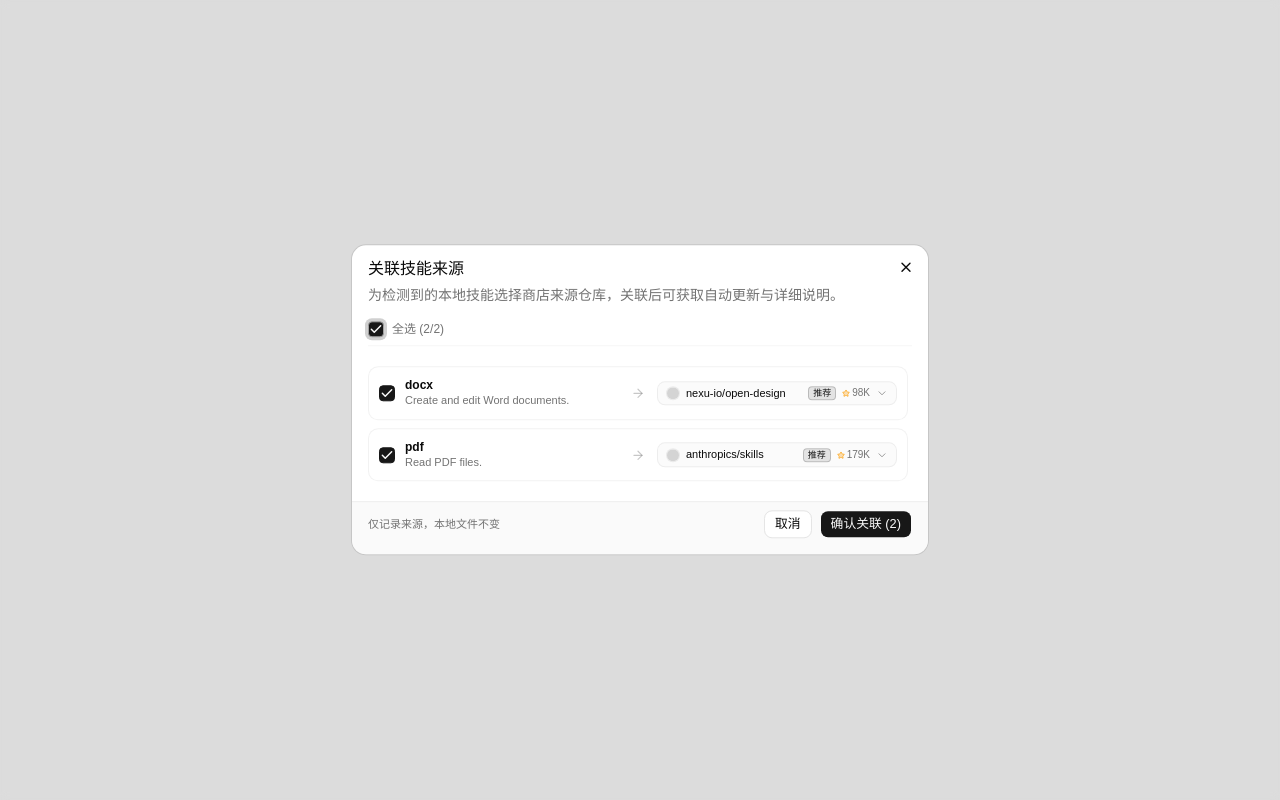
SourceLinkBatchDialog › disables confirm button when all items are unchecked
Uncheck docx and pdf
Click the checkbox named "docx": (387, 393) [379,385,395,401]
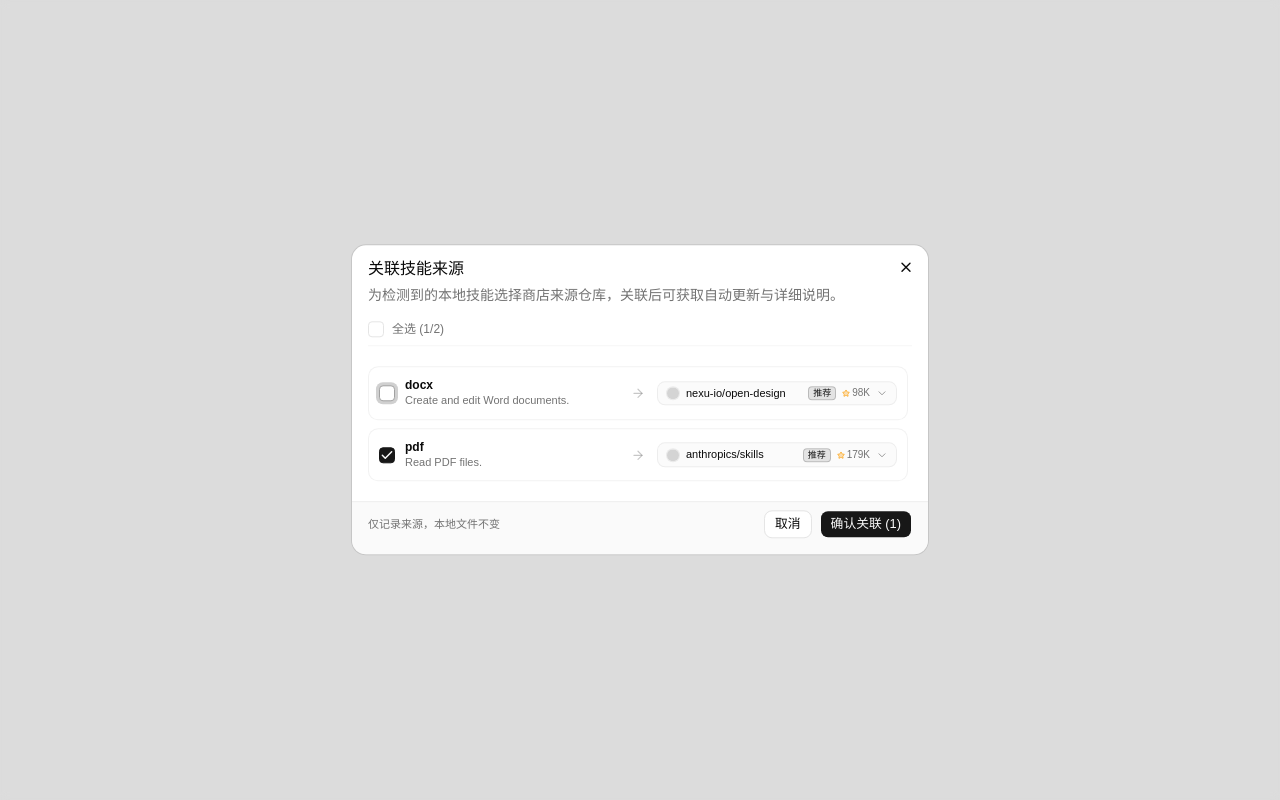
Click the checkbox named "pdf": (387, 455) [379,447,395,463]
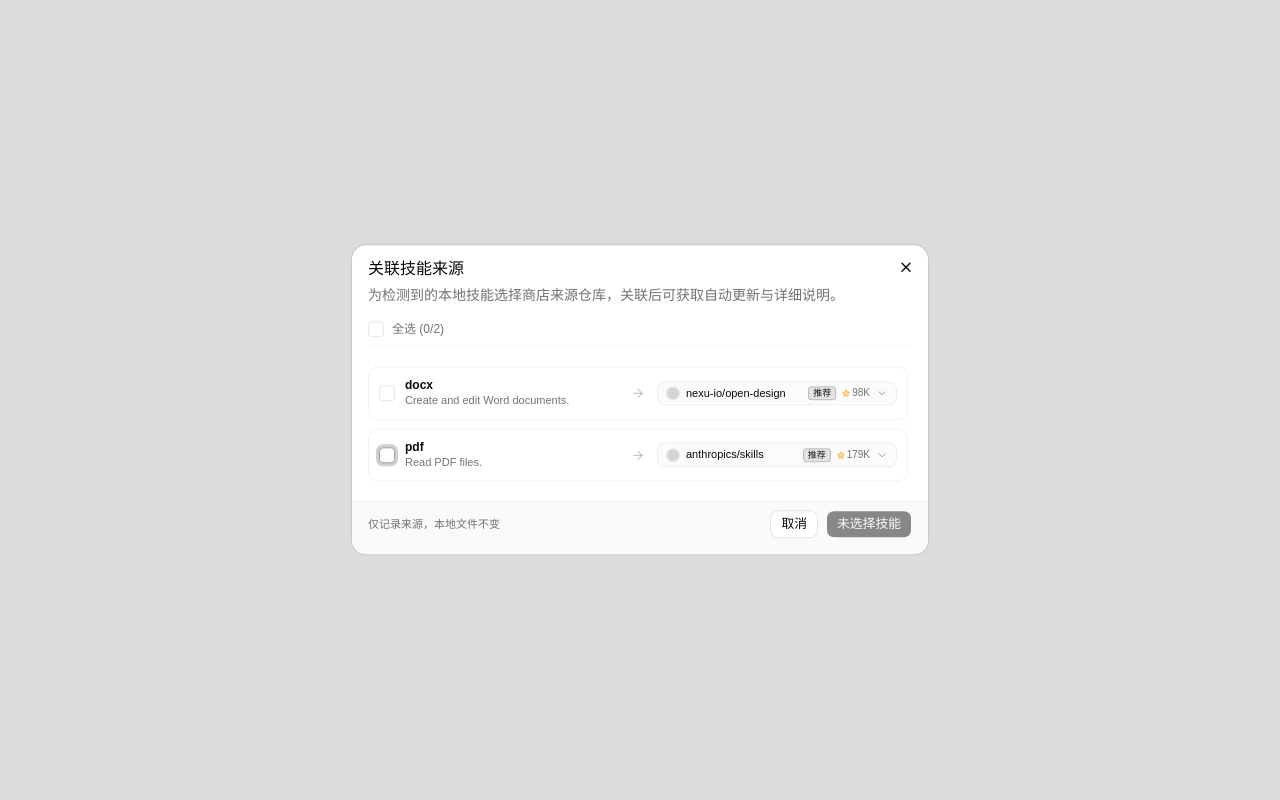
expect the button "未选择技能" is disabled: met, box [826,511,912,539]
